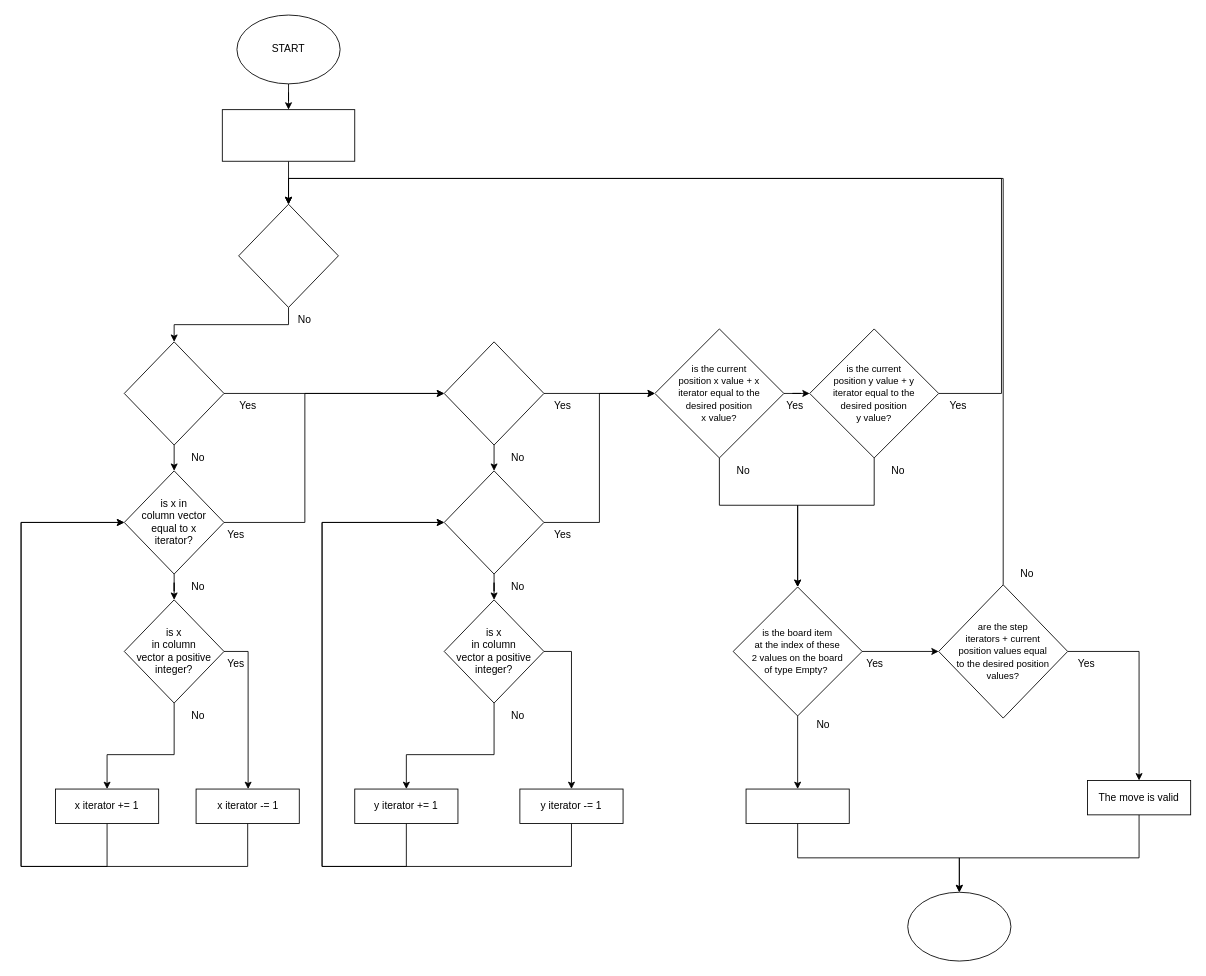
This 1206x976 diagram has some shape labels left out. Here are the shapes that lost their labels. From the top down, the centre of each, then its label:
At pixel 288 135: "find the largest integer in column vector".
At pixel 288 255: "has loop iterator reached the largest integer?".
At pixel 173 393: "is x in column vector equal to 0?".
At pixel 493 393: "is y in column vector equal to 0?".
At pixel 493 522: "is x in column vector equal to y iterator?".
At pixel 797 805: "The move is invalid".
At pixel 959 926: "END".
